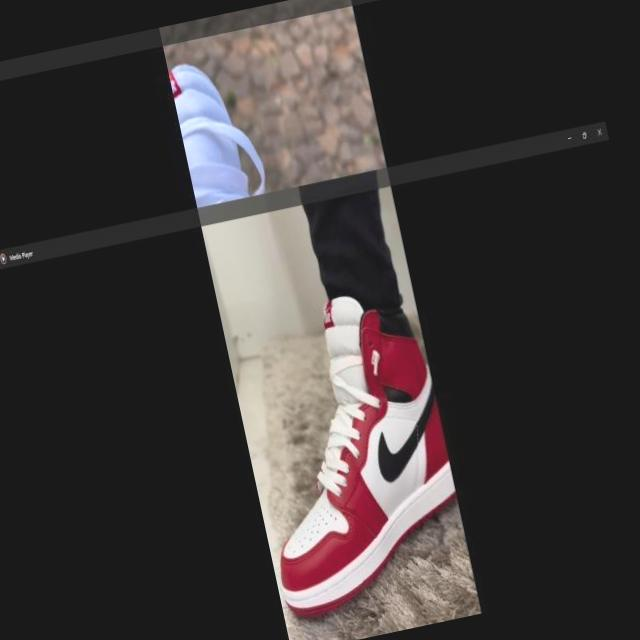nike_original_jordan: (225, 278, 474, 620)
